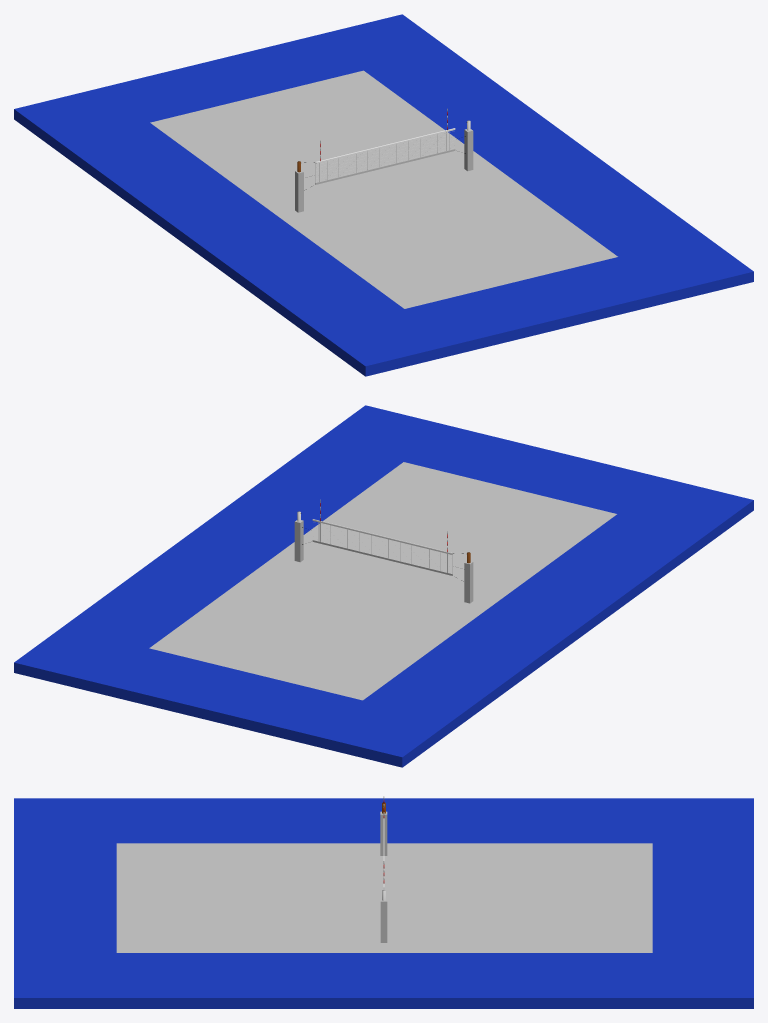
Rendered from field.obj.
The picture shows the model from 3 angles, top to bottom: view 1: azimuth 30°, elevation 25°; view 2: azimuth 150°, elevation 25°; view 3: azimuth 270°, elevation 25°; orthographic projection. The views are drawn at different scales.
Parts seen in each view (by area): view 1: teren_Cube, Plane.007_Plane.011, Plane.008_Plane.012; view 2: teren_Cube, Plane.008_Plane.012, Plane.007_Plane.011; view 3: teren_Cube, Plane.008_Plane.012, Plane.007_Plane.011.
Boxes of the visible parts, x1=… form: teren_Cube: x1=14, y1=14, x2=753, y2=376; Plane.007_Plane.011: x1=278, y1=164, x2=617, y2=308; Plane.008_Plane.012: x1=150, y1=70, x2=490, y2=215; teren_Cube: x1=14, y1=405, x2=753, y2=767; Plane.008_Plane.012: x1=149, y1=555, x2=489, y2=700; Plane.007_Plane.011: x1=276, y1=462, x2=616, y2=607; teren_Cube: x1=14, y1=798, x2=753, y2=1008; Plane.008_Plane.012: x1=384, y1=843, x2=652, y2=952; Plane.007_Plane.011: x1=116, y1=843, x2=384, y2=952.
Bounding box in the file's own units: 27.5 × 5.2 × 43.1.
